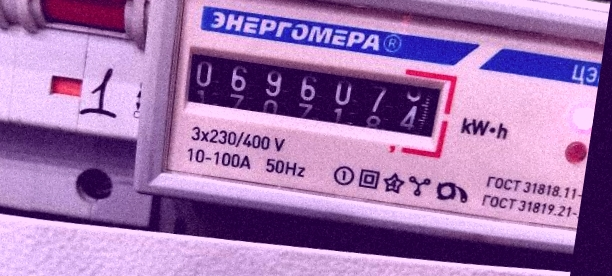0: (191, 56, 216, 89), (331, 76, 355, 107)
4: (396, 101, 419, 132)
6: (296, 71, 320, 104), (226, 61, 250, 93)
7: (366, 80, 388, 113)
9: (261, 67, 285, 98)
screen: (168, 28, 461, 160)
